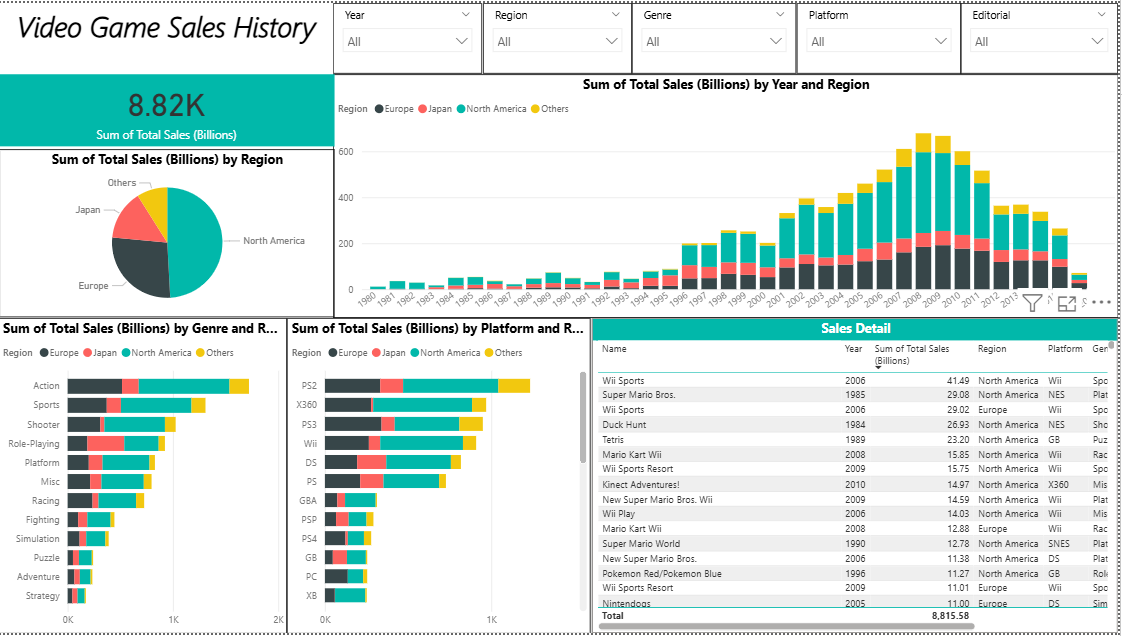

Layout of this report page (visuals, bound fields, positions):
{"tool":"powerbi","page":{"name":"Page 1","canvas":[1280,720],"ordinal":0},"visuals":[{"type":"columnChart","fields":{"Category":["Ventas Videojuegos.Year"],"Y":["Sum(Ventas Videojuegos.Total Sales (Billions))"],"Series":["Ventas Videojuegos.Region"]},"box":[382.8,81,897.4,278.6],"z":0},{"type":"pieChart","fields":{"Category":["Ventas Videojuegos.Region"],"Y":["Sum(Ventas Videojuegos.Total Sales (Billions))"]},"box":[1.4,167.4,382.8,192.1],"z":1000},{"type":"tableEx","title":"Sales Detail","fields":{"Values":["Ventas Videojuegos.Name","Ventas Videojuegos.Year","Sum(Ventas Videojuegos.Total Sales (Billions))","Ventas Videojuegos.Region","Ventas Videojuegos.Platform","Ventas Videojuegos.Genre","Ventas Videojuegos.Editorial"]},"box":[677.9,359.5,602.4,360.9],"z":2000},{"type":"barChart","fields":{"Category":["Ventas Videojuegos.Platform"],"Y":["Sum(Ventas Videojuegos.Total Sales (Billions))"],"Series":["Ventas Videojuegos.Region"]},"box":[330.7,359.5,347.2,360.9],"z":3000},{"type":"barChart","fields":{"Y":["Sum(Ventas Videojuegos.Total Sales (Billions))"],"Series":["Ventas Videojuegos.Region"],"Category":["Ventas Videojuegos.Genre"]},"box":[0,359.5,330.7,360.9],"z":4000},{"type":"card","fields":{"Values":["Sum(Ventas Videojuegos.Total Sales (Billions))"]},"box":[1.4,81,382.8,82.3],"z":5000},{"type":"slicer","fields":{"Values":["Ventas Videojuegos.Year"]},"box":[382.8,0,170.2,81],"z":6000},{"type":"slicer","fields":{"Values":["Ventas Videojuegos.Region"]},"box":[554.4,0,170.2,81],"z":7000},{"type":"slicer","fields":{"Values":["Ventas Videojuegos.Genre"]},"box":[724.5,0,188,81],"z":8000},{"type":"slicer","fields":{"Values":["Ventas Videojuegos.Platform"]},"box":[912.5,0,188,81],"z":9000},{"type":"slicer","fields":{"Values":["Ventas Videojuegos.Editorial"]},"box":[1100.5,0,179.8,81],"z":10000},{"type":"textbox","box":[0,0,382.8,81],"z":10001}]}

Visuals, with their boxes in screenshot pixels (x1, y1, x2, y2), scaled from the page's 1280x720 canvas onto the 1122x636 screenshot:
columnChart - Ventas Videojuegos.Year x Sum(Ventas Videojuegos.Total Sales (Billions)): region(336, 72, 1121, 318)
pieChart - Ventas Videojuegos.Region x Sum(Ventas Videojuegos.Total Sales (Billions)): region(1, 148, 337, 318)
"Sales Detail" tableEx: region(594, 318, 1121, 635)
barChart - Ventas Videojuegos.Platform x Sum(Ventas Videojuegos.Total Sales (Billions)): region(290, 318, 594, 635)
barChart - Sum(Ventas Videojuegos.Total Sales (Billions)) x Ventas Videojuegos.Region: region(0, 318, 290, 635)
card - Sum(Ventas Videojuegos.Total Sales (Billions)): region(1, 72, 337, 144)
slicer - Ventas Videojuegos.Year: region(336, 0, 485, 72)
slicer - Ventas Videojuegos.Region: region(486, 0, 635, 72)
slicer - Ventas Videojuegos.Genre: region(635, 0, 800, 72)
slicer - Ventas Videojuegos.Platform: region(800, 0, 965, 72)
slicer - Ventas Videojuegos.Editorial: region(965, 0, 1121, 72)
textbox: region(0, 0, 336, 72)
